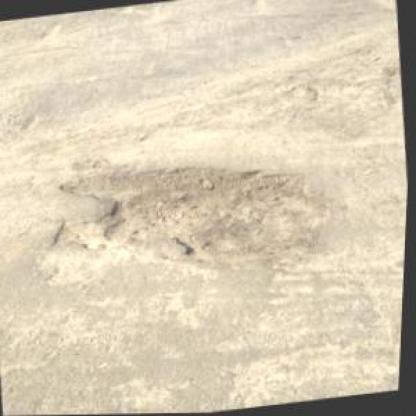pothole: (46, 140, 344, 293)
